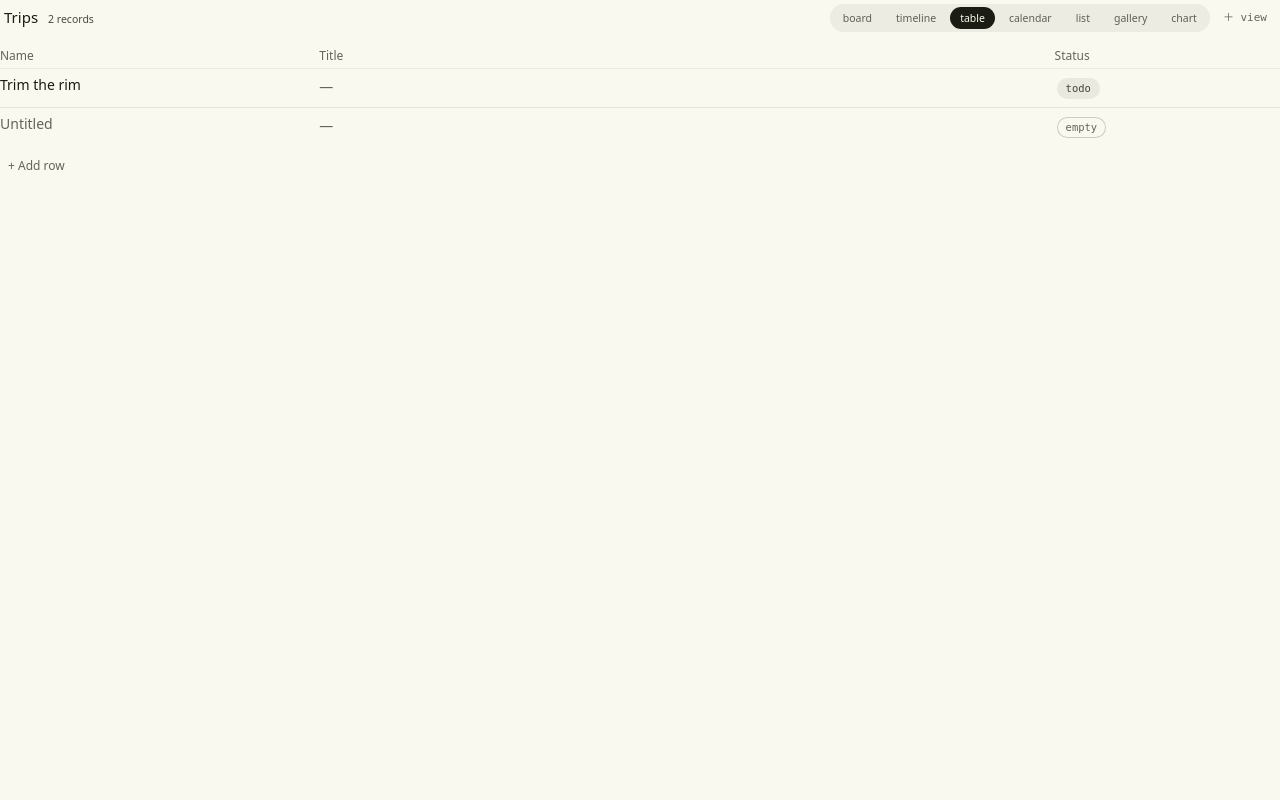
Test: CollectionTable — clicking a row's title opens its record (KAN-546) › double-clicking the title opens exactly one record page
Double-click the field named "Row title" at (40, 85), box [0,75,81,95]
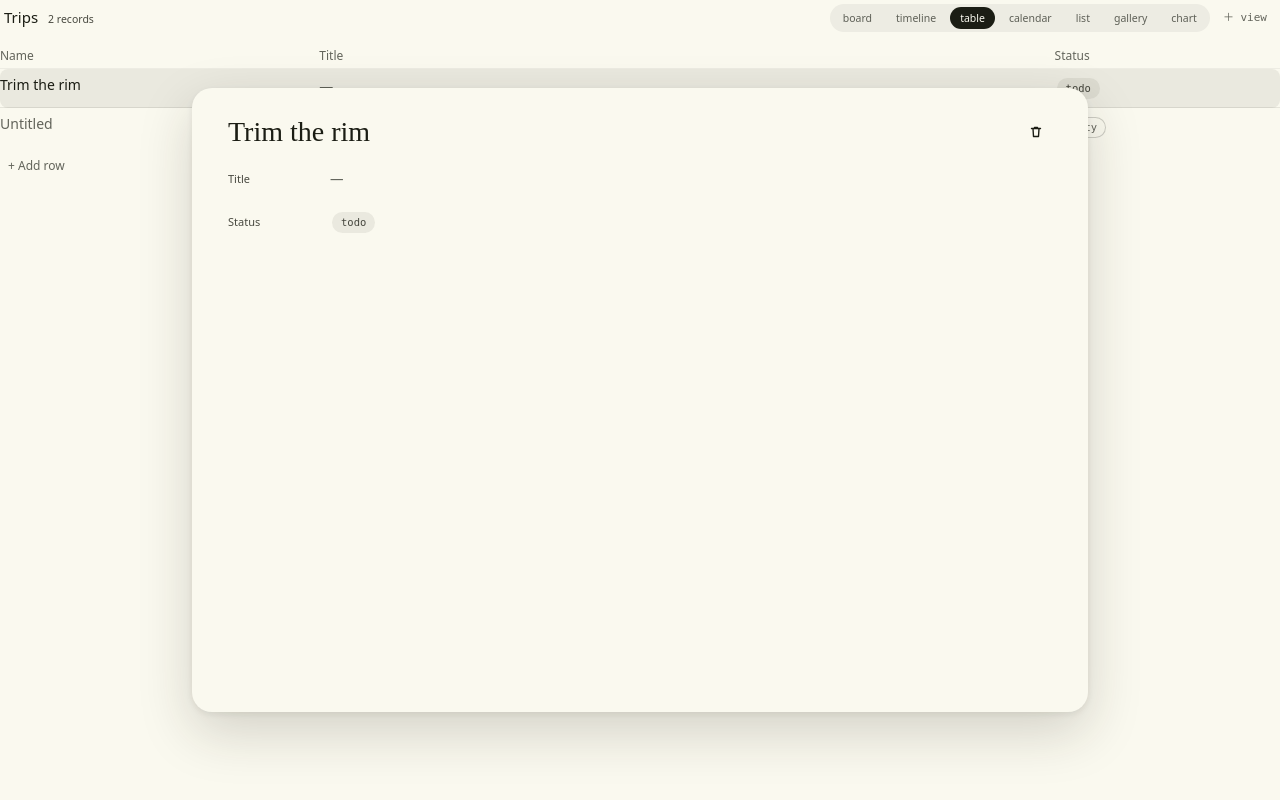
Expected: the number of elements named "Record: Trim the rim" is 1, [192,88,1088,712]
